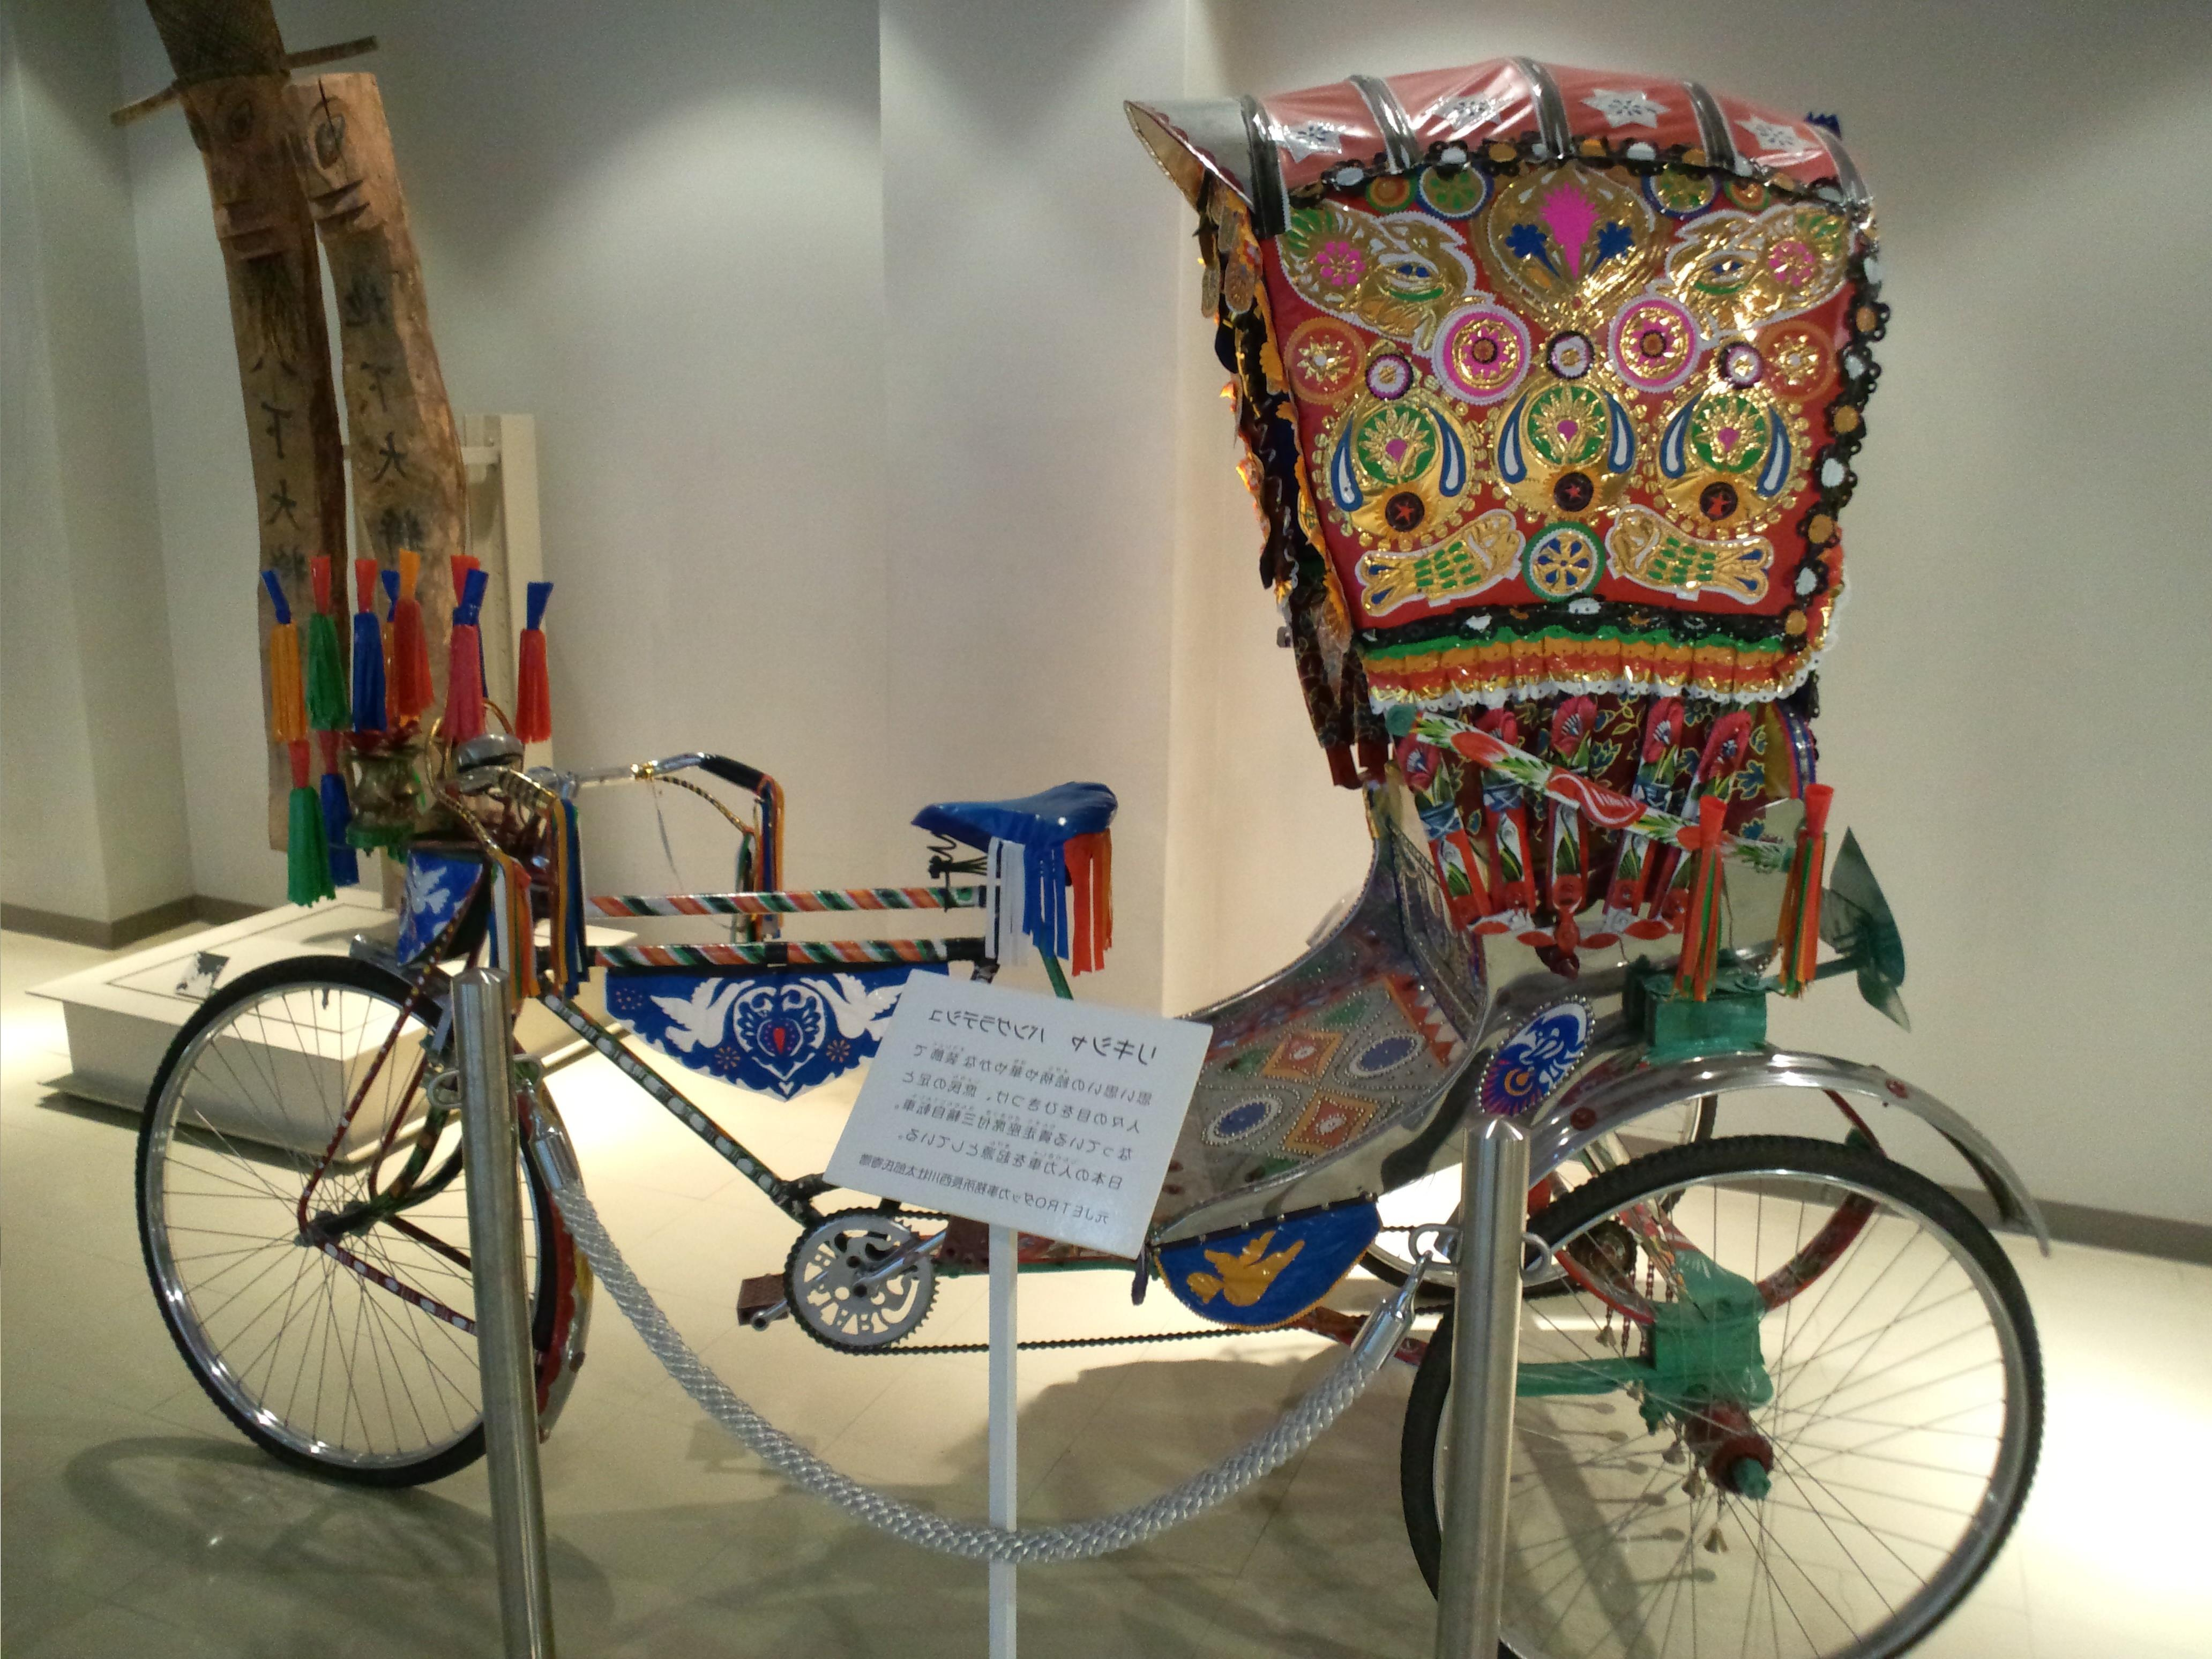Rickshaw: (94, 33, 2031, 1497)
